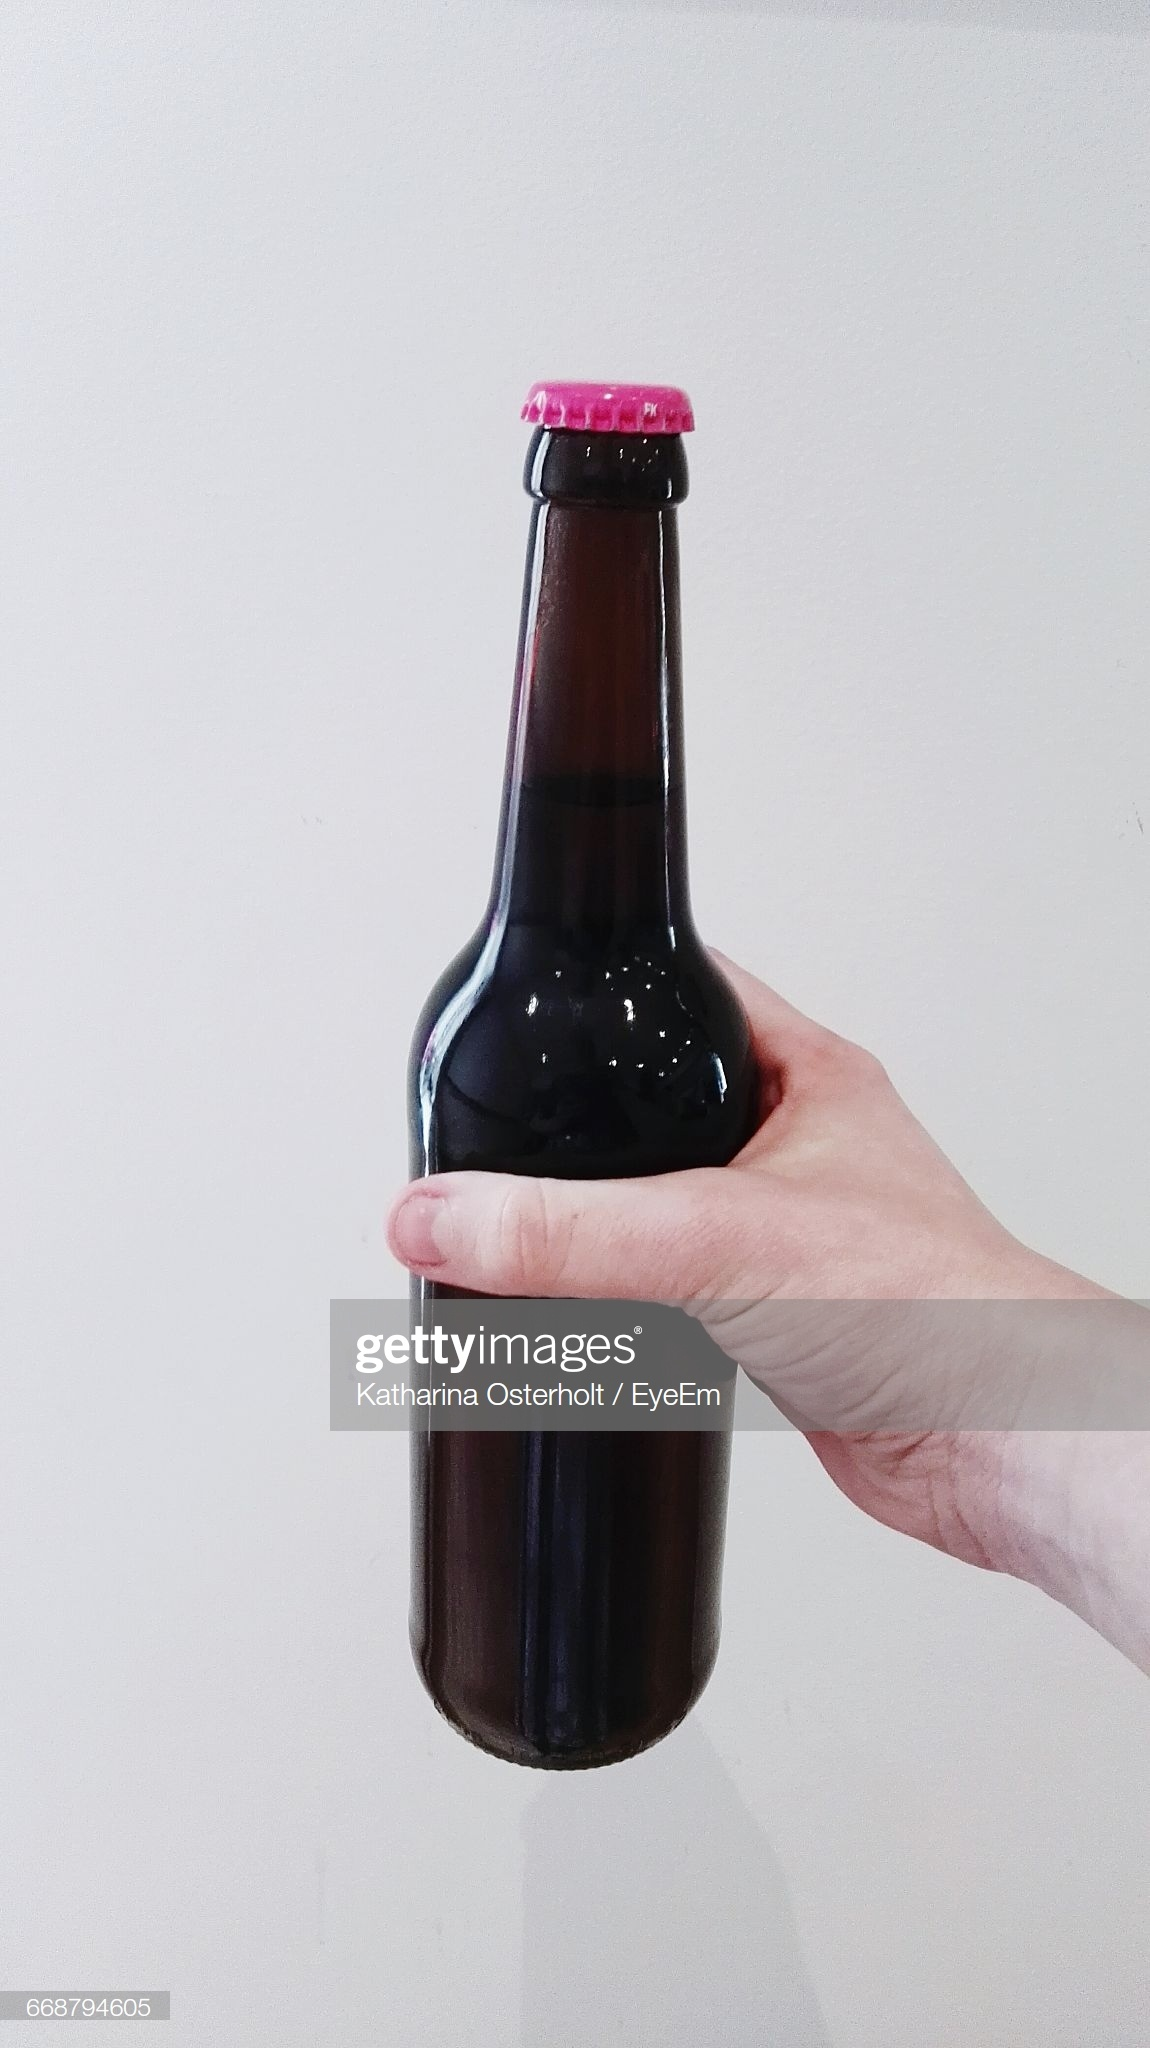beerBottle: (401, 390, 754, 1764)
